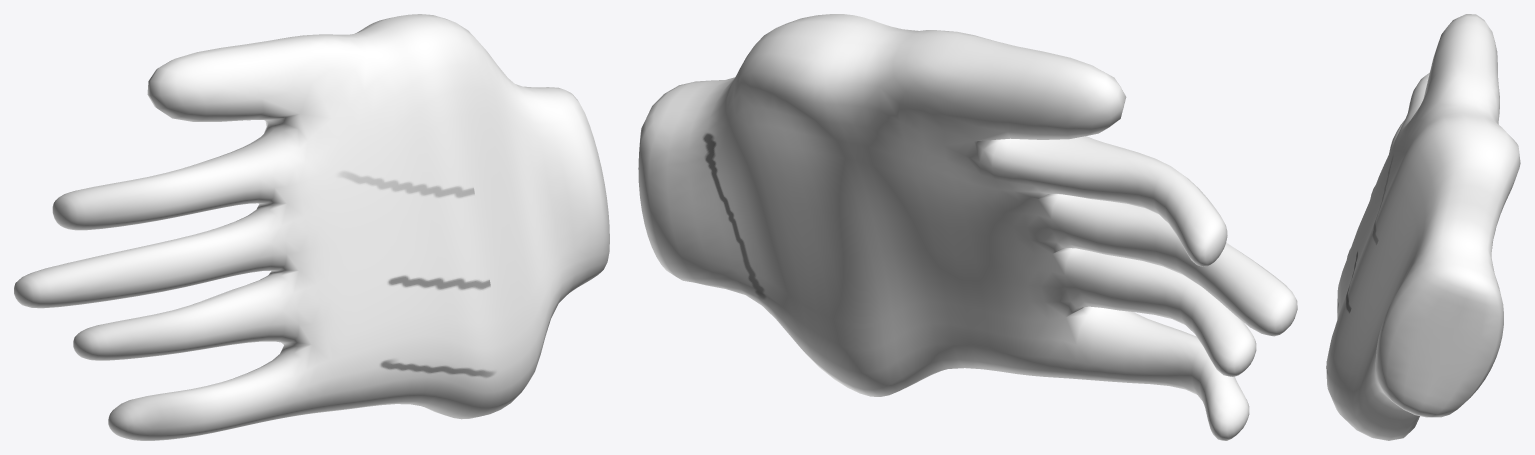
Rendered from mao esq.fbx.
The picture shows the model from 3 angles, left to right: view 1: azimuth 30°, elevation 25°; view 2: azimuth 150°, elevation 25°; view 3: azimuth 270°, elevation 25°; orthographic projection. The views are drawn at different scales.
Visible parts, largest first — view 1: Cube.010; view 2: Cube.010; view 3: Cube.010.
Part boxes in pixels (x1=…): Cube.010: x1=14, y1=14, x2=609, y2=440; Cube.010: x1=638, y1=14, x2=1297, y2=440; Cube.010: x1=1326, y1=14, x2=1520, y2=440.
Bounding box in the file's own units: 90.11 × 57.83 × 31.74.
Materials: 1 (1 with a texture image).
